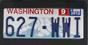placa de veiculo: (3, 6, 84, 38)
